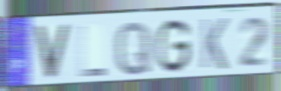2: (239, 15, 270, 69)
G: (155, 17, 192, 76)
K: (200, 17, 229, 72)
L: (78, 24, 107, 79)
Q: (114, 18, 152, 78)
V: (33, 24, 73, 83)
